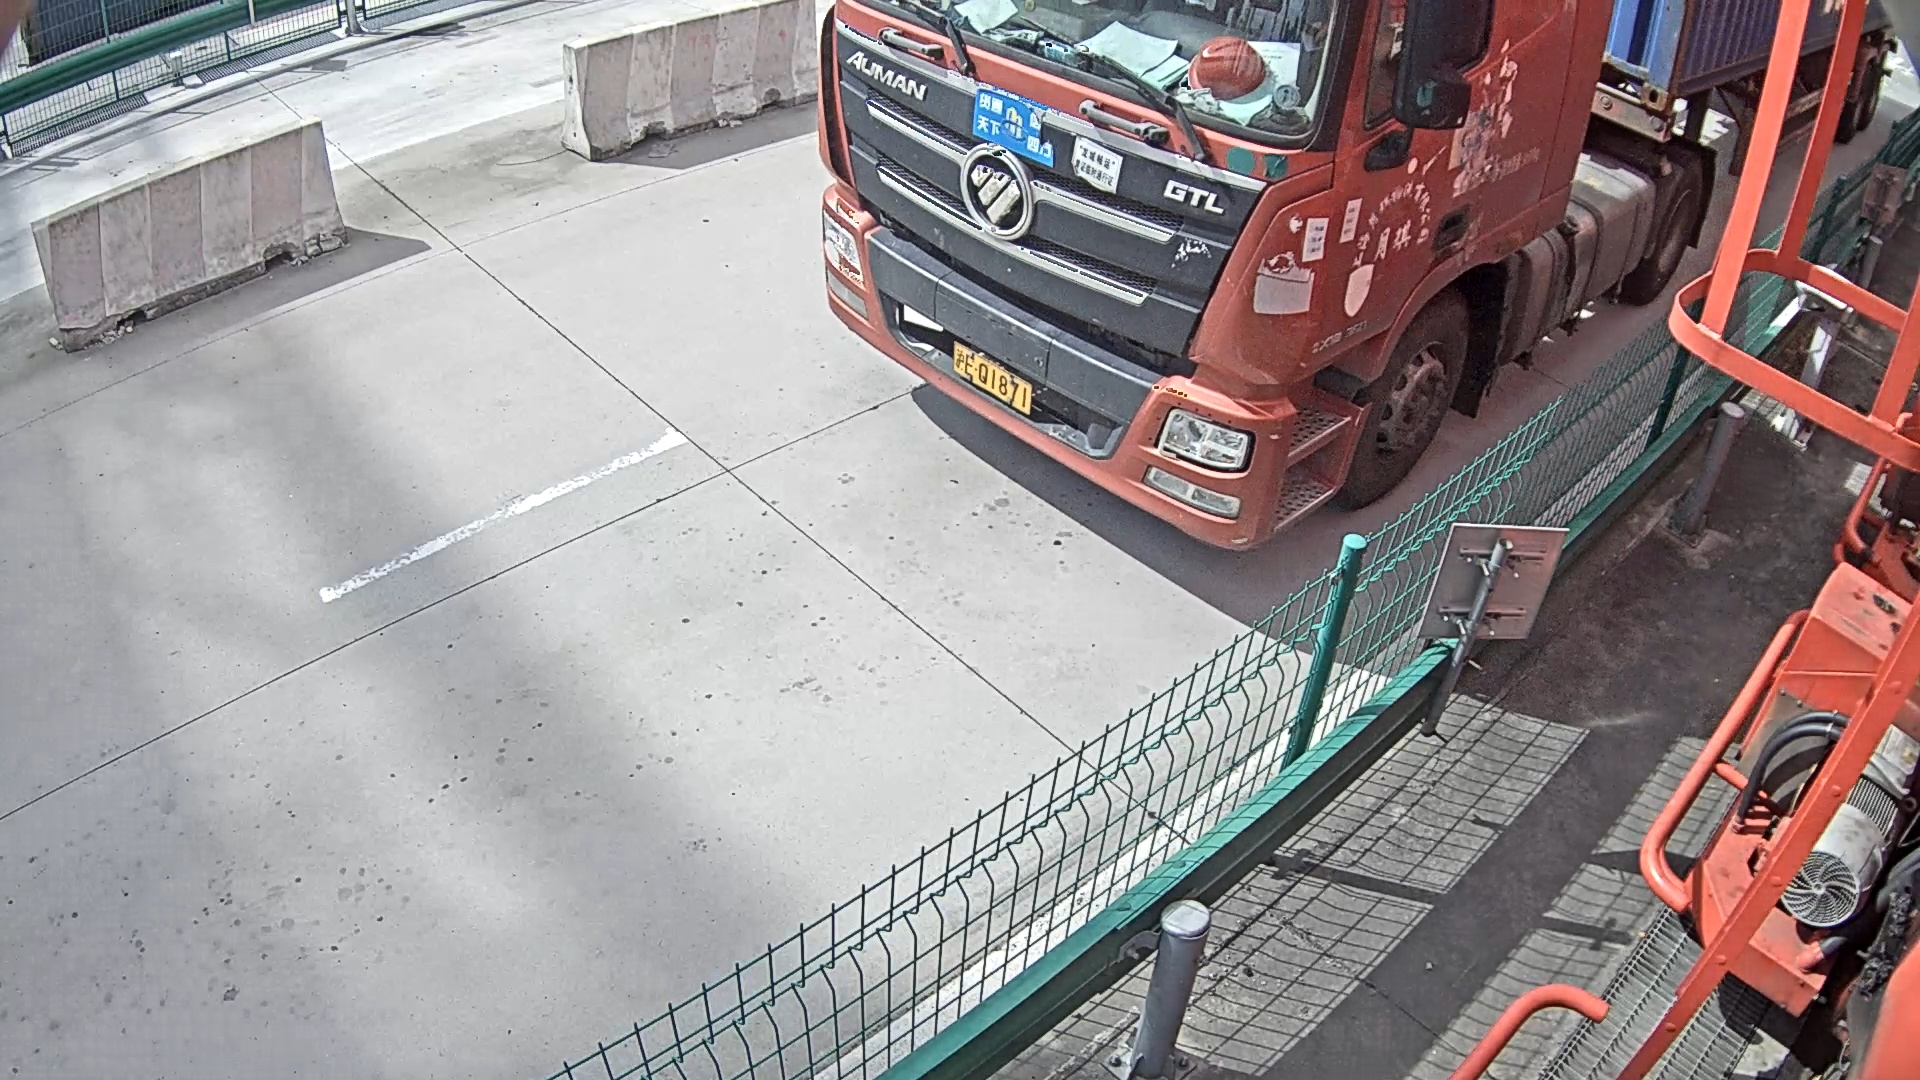head: (822, 1, 1621, 551)
plate: (948, 336, 1028, 412)
